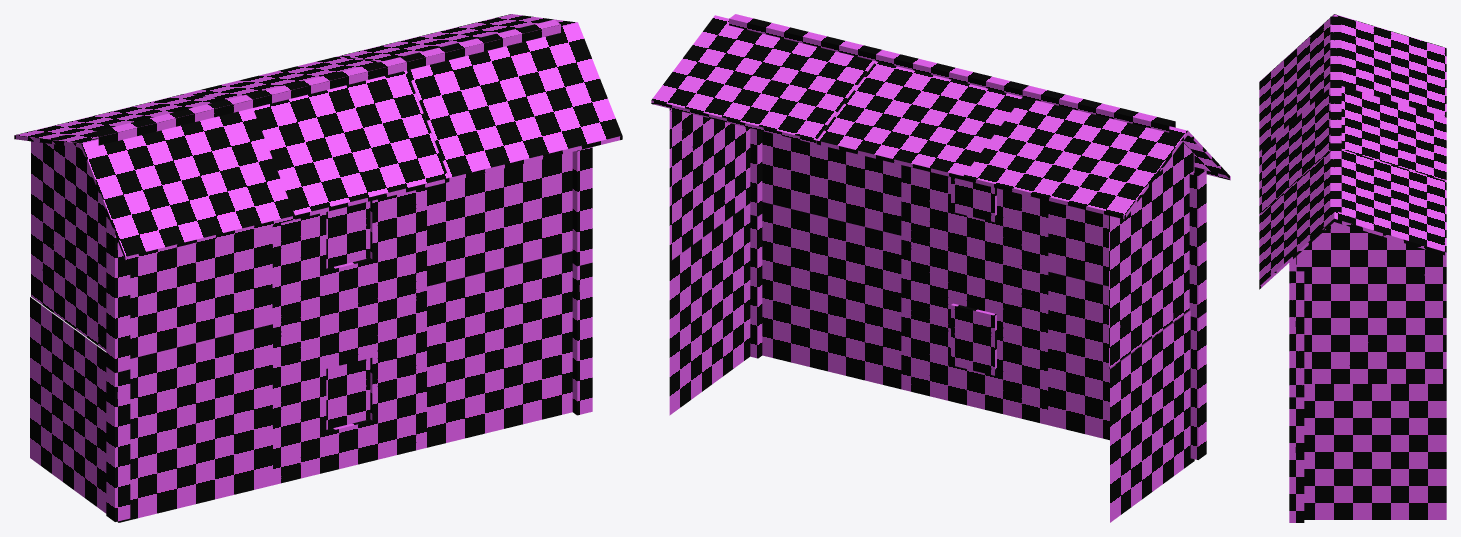
The model's file is SM_small house_v3.fbx.
The picture shows the model from 3 angles, left to right: view 1: azimuth 30°, elevation 25°; view 2: azimuth 150°, elevation 25°; view 3: azimuth 270°, elevation 25°; orthographic projection. The views are drawn at different scales.
Visible parts, largest first — view 1: Cube.027; view 2: Cube.027; view 3: Cube.027.
Part boxes in pixels (left/top/right/bottom): Cube.027: left=14, top=14, right=622, bottom=522; Cube.027: left=651, top=14, right=1230, bottom=522; Cube.027: left=1259, top=14, right=1446, bottom=522.
Size of the model in its own units: 903 by 645 by 350.
Materials: 1 (1 with a texture image).
